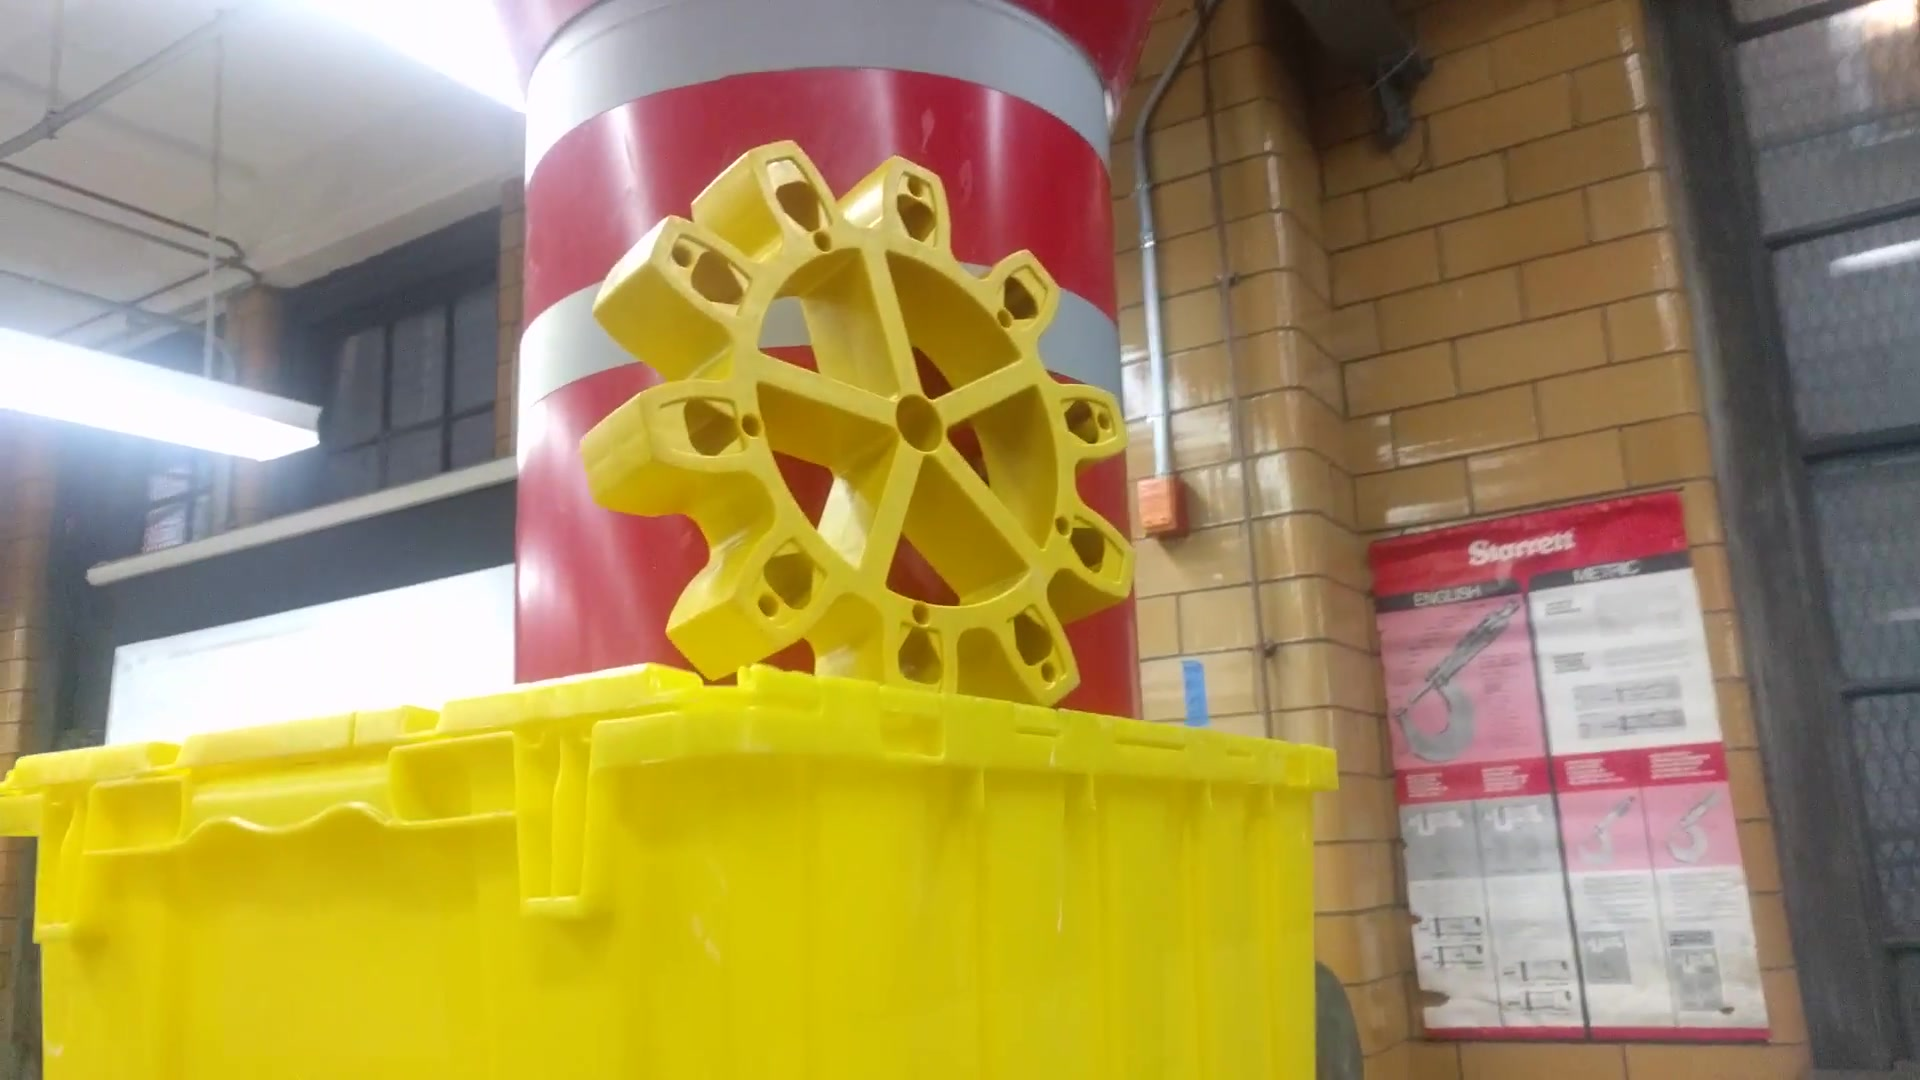gear: (575, 131, 1139, 716)
